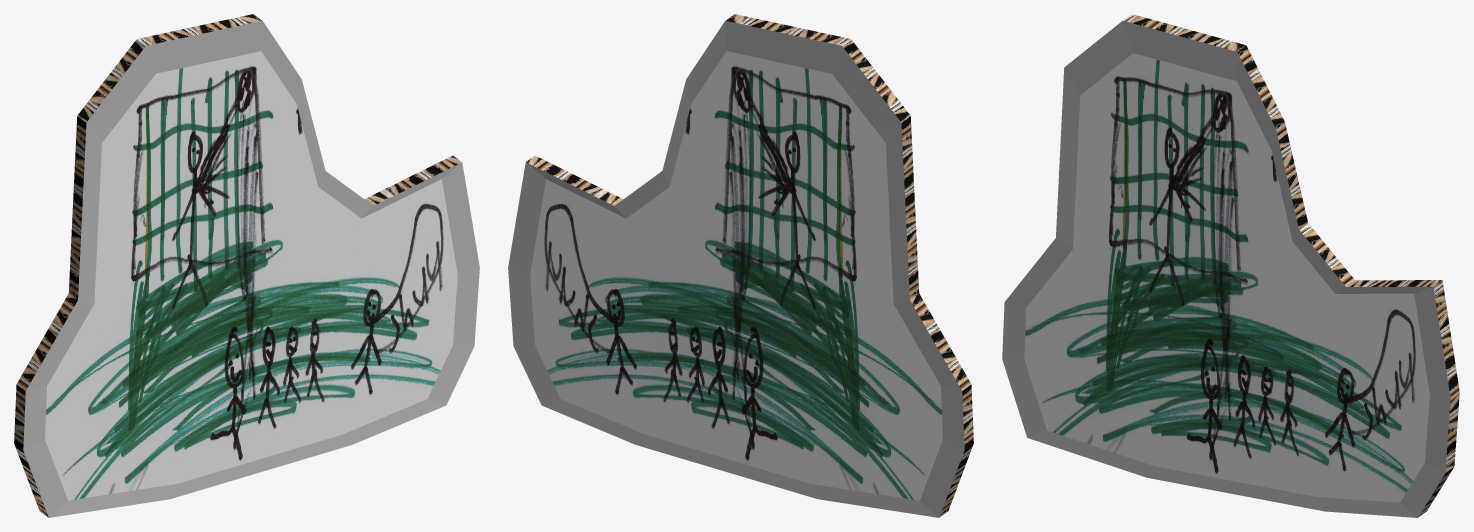
Rendered from FutisJoukkue.fbx.
3 views of the same model, side by side, from view 1: azimuth 30°, elevation 25°; view 2: azimuth 150°, elevation 25°; view 3: azimuth 330°, elevation 25° (orthographic).
Visible parts, largest first — view 1: FutisJoukkue; view 2: FutisJoukkue; view 3: FutisJoukkue.
Boxes of the visible parts, <box> form: FutisJoukkue: <box>14,14,479,517</box>; FutisJoukkue: <box>508,14,973,517</box>; FutisJoukkue: <box>1002,14,1459,517</box>.
Size of the model in its own units: 209 by 201 by 7.35.
